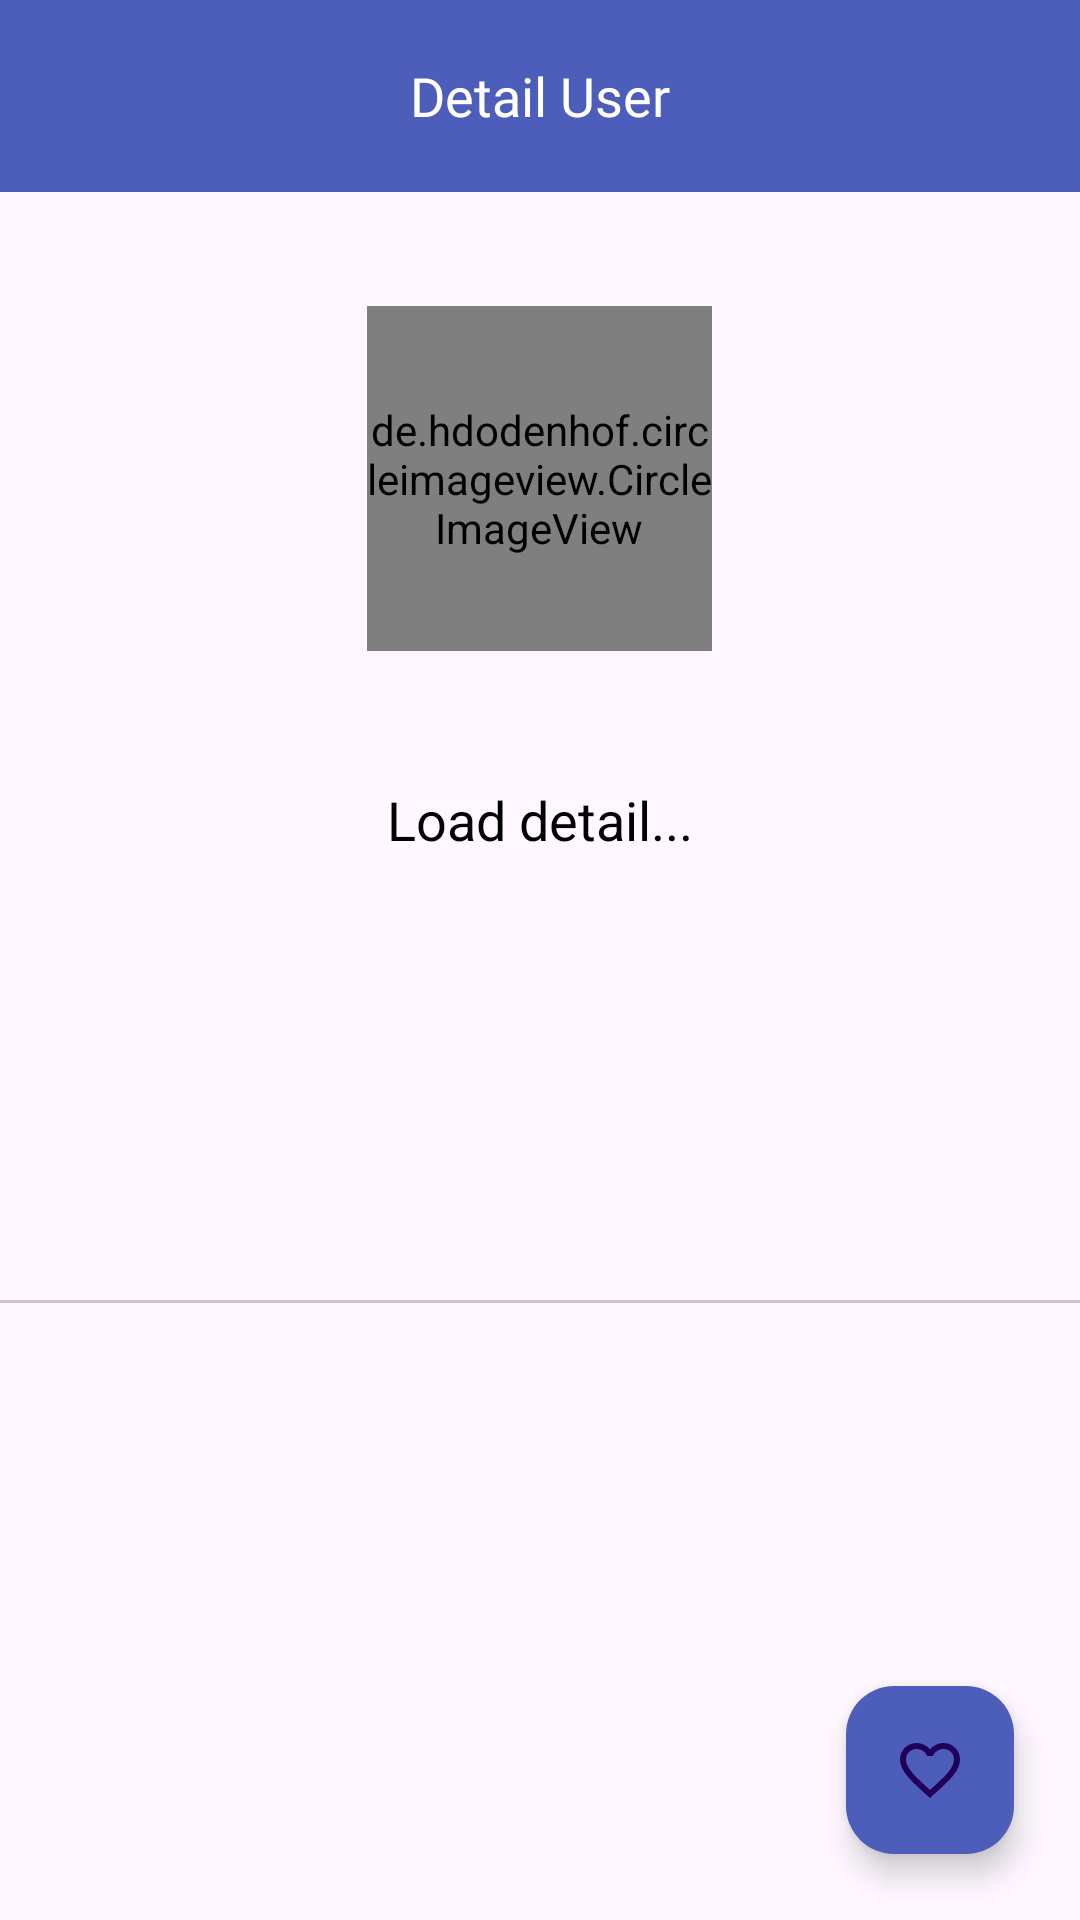

Icons on this 1080 x 1920 Android screen, each with its box as (x1, y1, x2, y2):
favorite border: (846, 1686, 1014, 1854)
